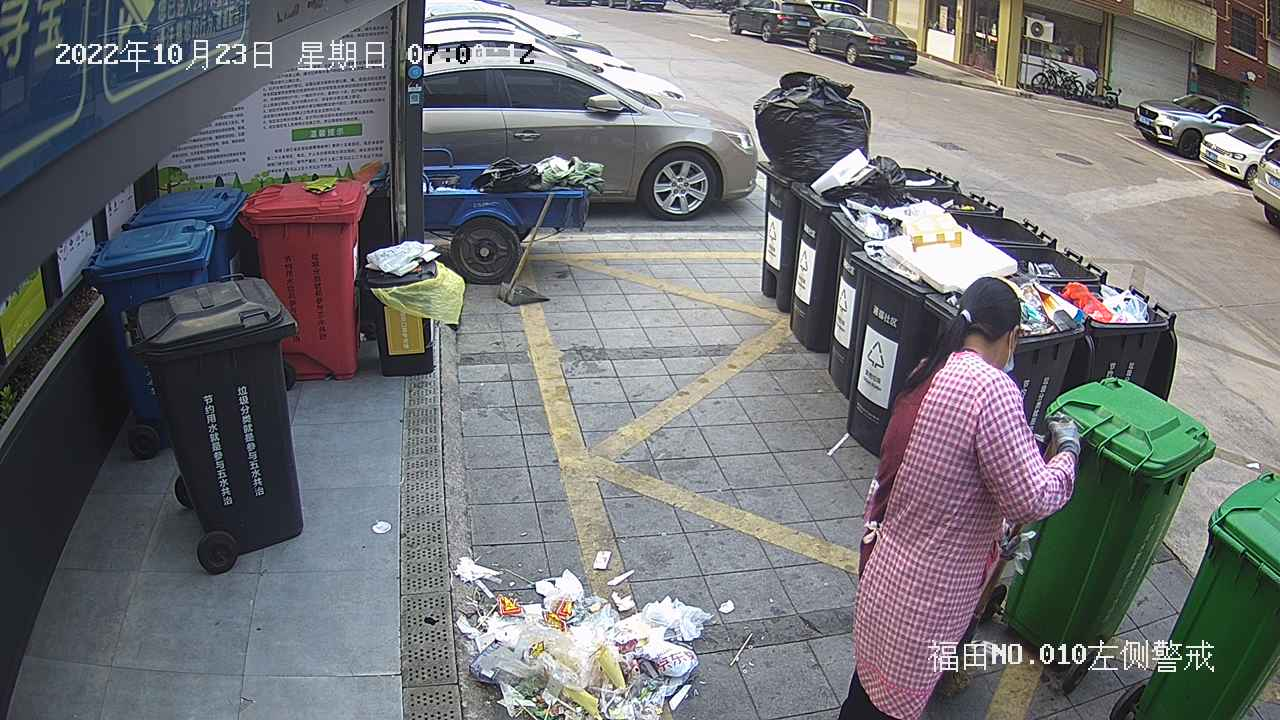person: (825, 272, 1085, 720)
